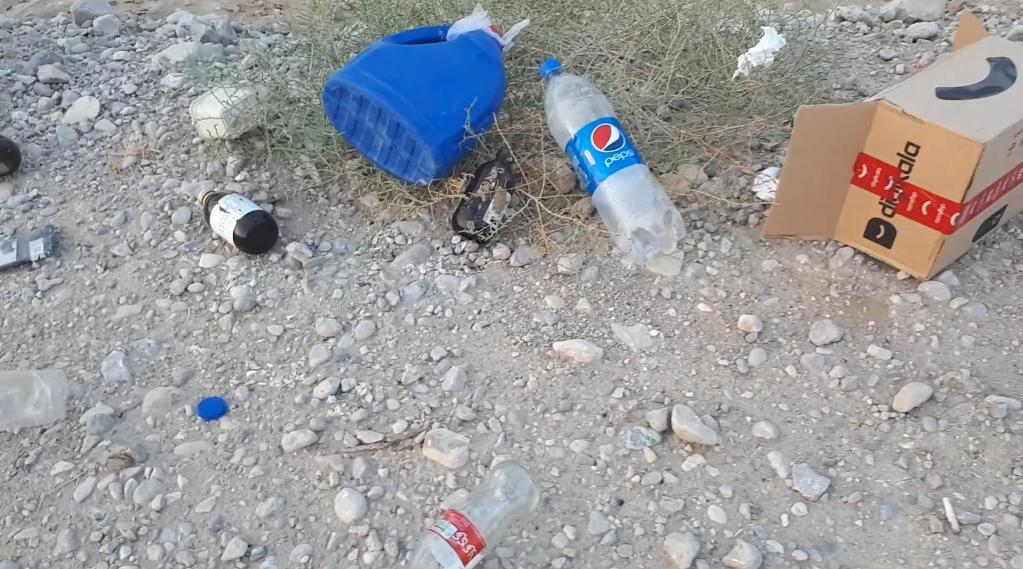garbage: (757, 10, 1023, 282), (523, 49, 701, 270), (308, 17, 538, 187), (323, 20, 507, 187), (540, 58, 687, 265), (403, 460, 556, 569), (406, 460, 541, 569), (449, 125, 533, 254), (189, 186, 292, 268), (452, 146, 516, 244), (198, 187, 278, 254), (0, 135, 21, 176)
